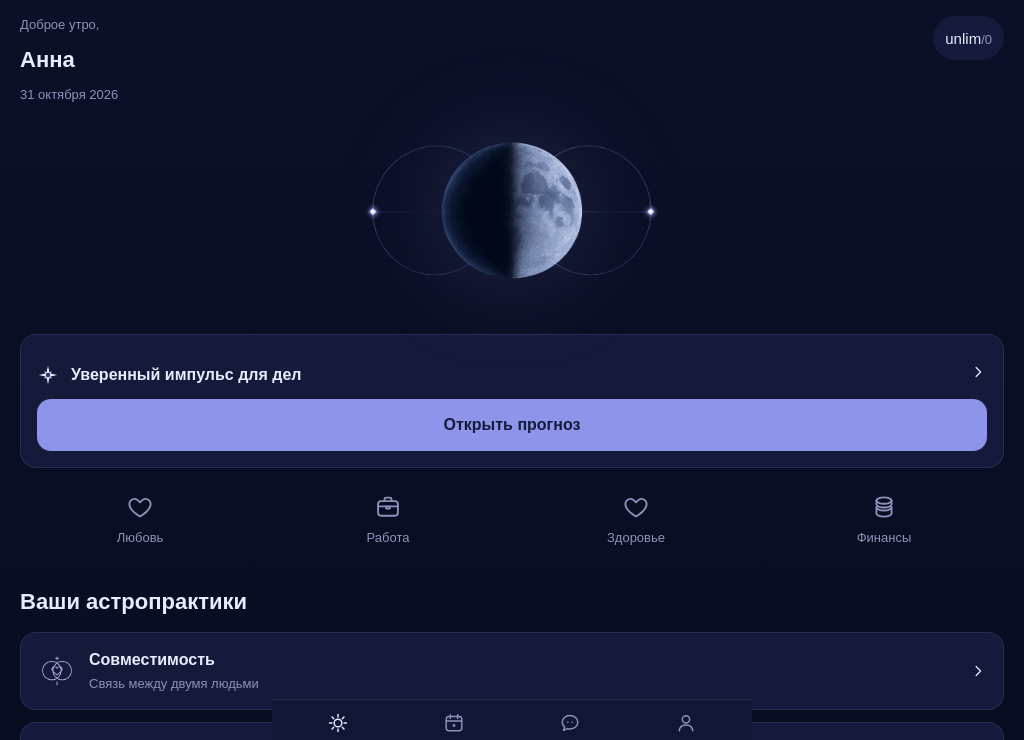
screens › shows the topic text when premium is active
What coordinates should you click on to do the following:
click the button "Любовь"
I would click on:
 (140, 528)
Its box is [20,492,260,564].
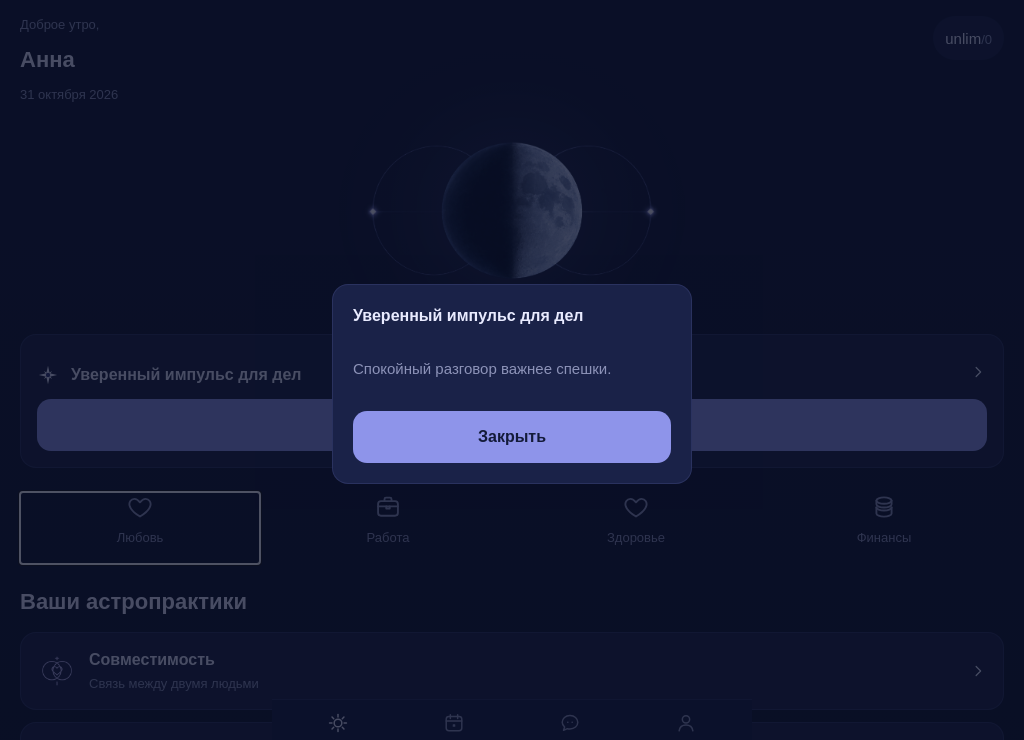
expect the dialog shows "Спокойный разговор важнее спешки.": met, box [353,360,611,377]
